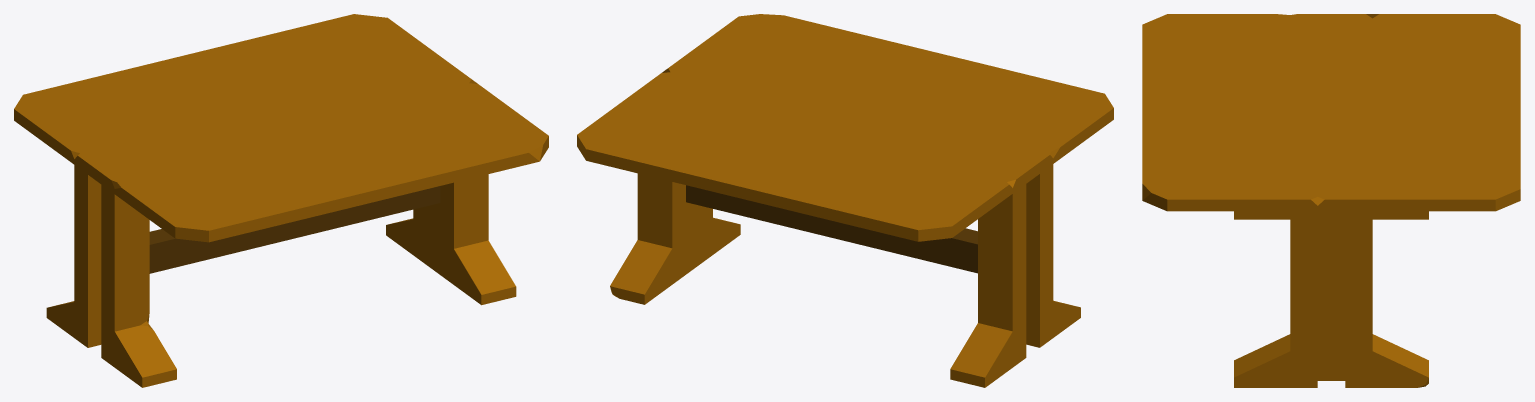
File: Table_02.fbx
The picture shows the model from 3 angles, left to right: view 1: azimuth 30°, elevation 25°; view 2: azimuth 150°, elevation 25°; view 3: azimuth 270°, elevation 25°; orthographic projection.
Parts seen in each view (by area): view 1: Table_02; view 2: Table_02; view 3: Table_02.
Boxes of the visible parts, x1,y1,x2,y2 form: Table_02: [14, 14, 548, 387]; Table_02: [577, 14, 1113, 387]; Table_02: [1142, 14, 1520, 387].
Size of the model in its own units: 200 by 94.58 by 172.
